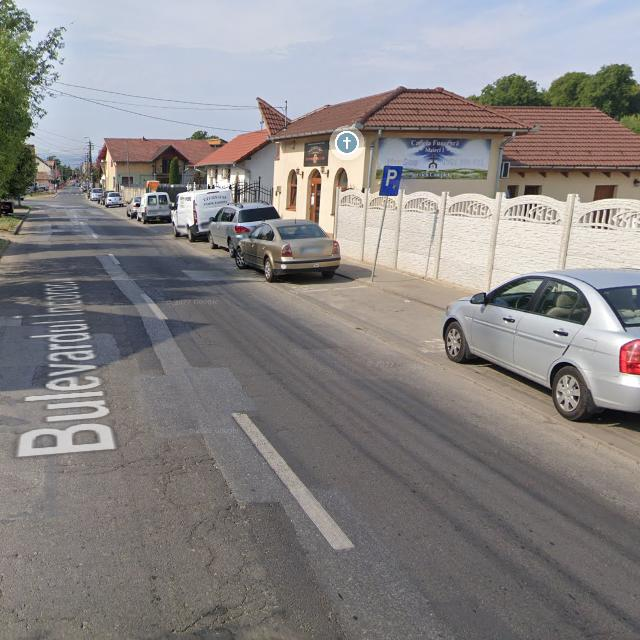info_parking: (379, 165, 402, 196)
